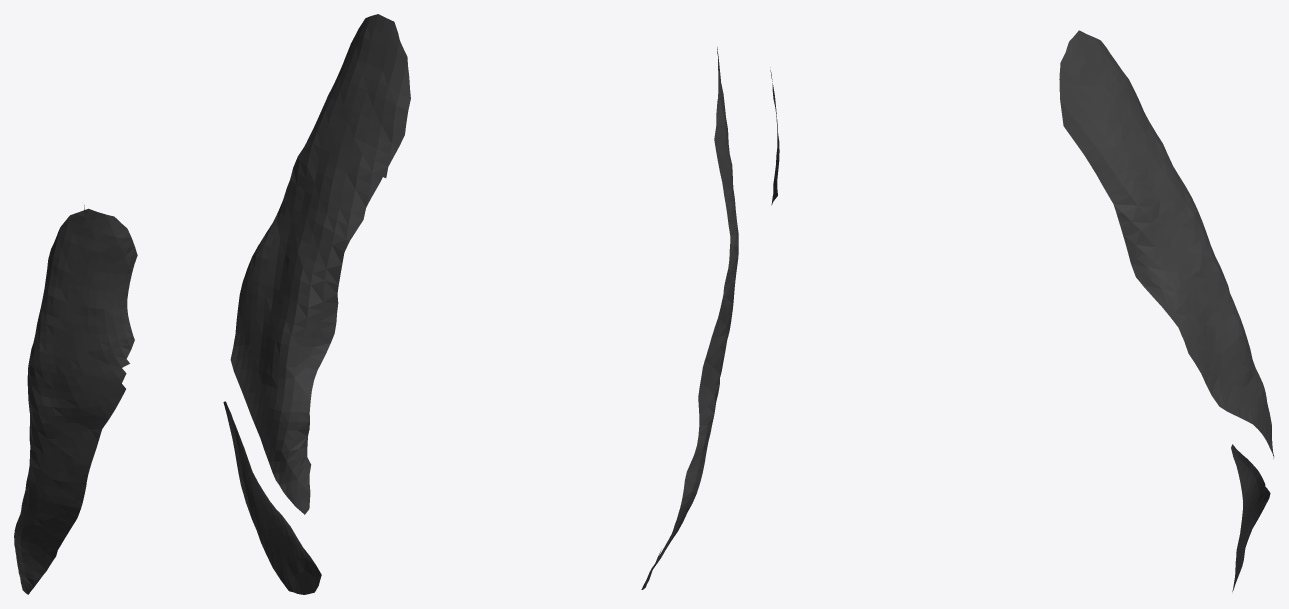
The model's file is eq_dist_limb_Collateral_Lig_Fetlock.glb.
3 views of the same model, side by side, from view 1: azimuth 30°, elevation 25°; view 2: azimuth 150°, elevation 25°; view 3: azimuth 270°, elevation 25° (orthographic). The views are drawn at different scales.
Visible parts, largest first — view 1: eq_dist_limb_Collateral_Lig_Fetlock; view 2: eq_dist_limb_Collateral_Lig_Fetlock; view 3: eq_dist_limb_Collateral_Lig_Fetlock.
Part boxes in pixels (x1=…): eq_dist_limb_Collateral_Lig_Fetlock: x1=14, y1=205, x2=137, y2=594; eq_dist_limb_Collateral_Lig_Fetlock: x1=223, y1=14, x2=738, y2=594; eq_dist_limb_Collateral_Lig_Fetlock: x1=770, y1=30, x2=1274, y2=591.
Bounding box in the file's own units: 0.00754 × 0.0123 × 0.00951.
Materials: 1 (1 with a texture image).
